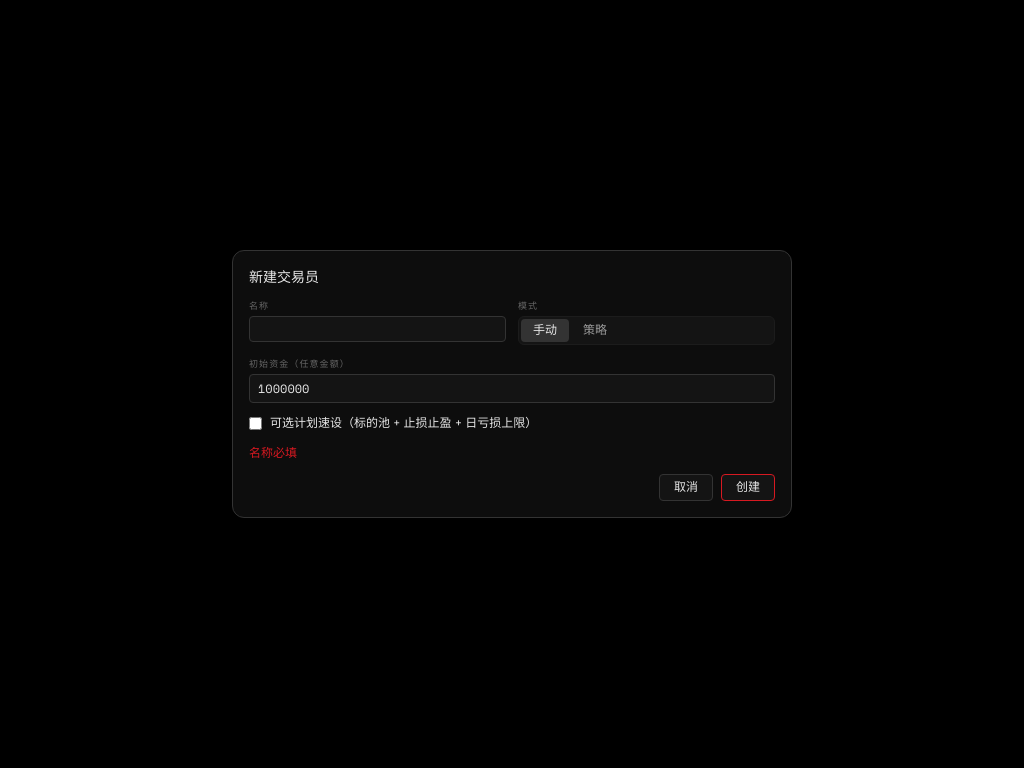
Test: 创建/编辑对话框（01 §4.10〔v2 新增〕） › 策略模式：模板选择驱动参数表单（换模板即换字段）
The image size is (1024, 768).
Type "Gamma" into the field labelled "名称" at [378, 329], box [249,316,506,342]
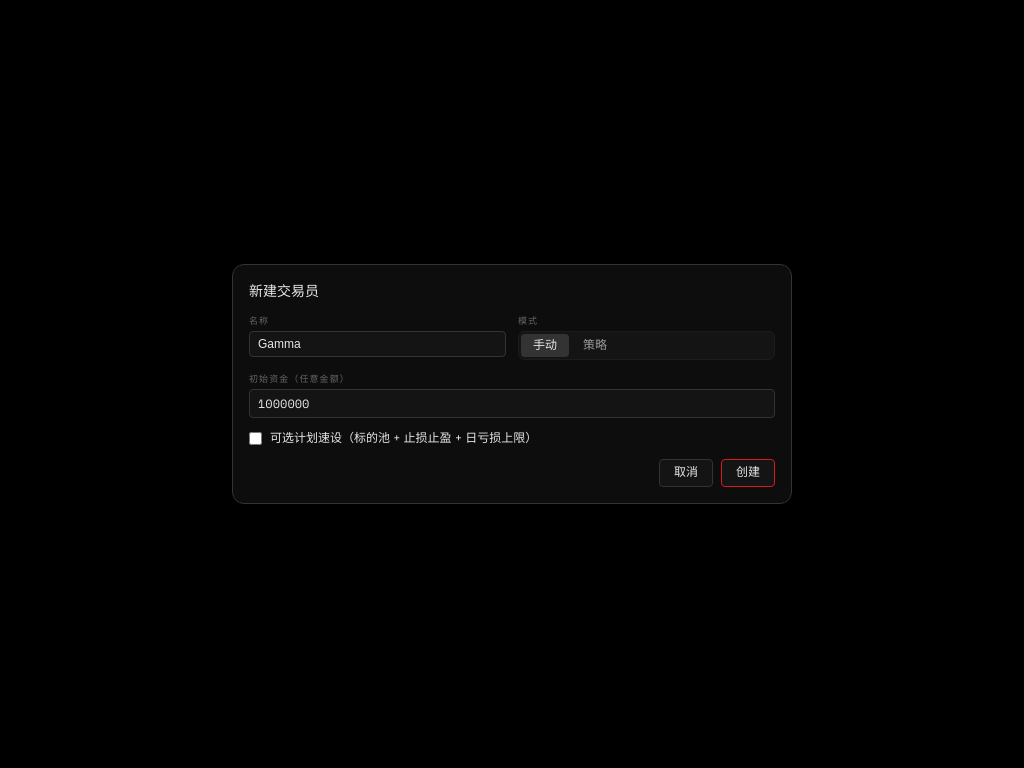
Click the button "策略" at [595, 345], box [571,334,619,357]
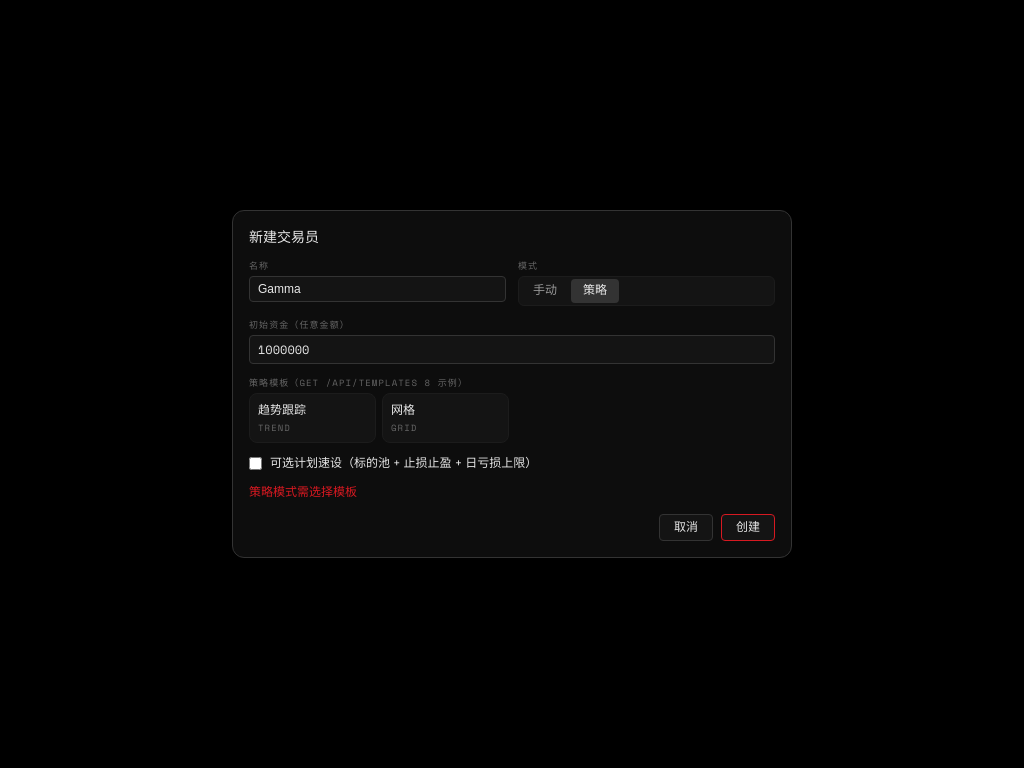
Check: the text "趋势跟踪" is shown
Click the text "趋势跟踪" at [282, 410], box [258,402,306,419]
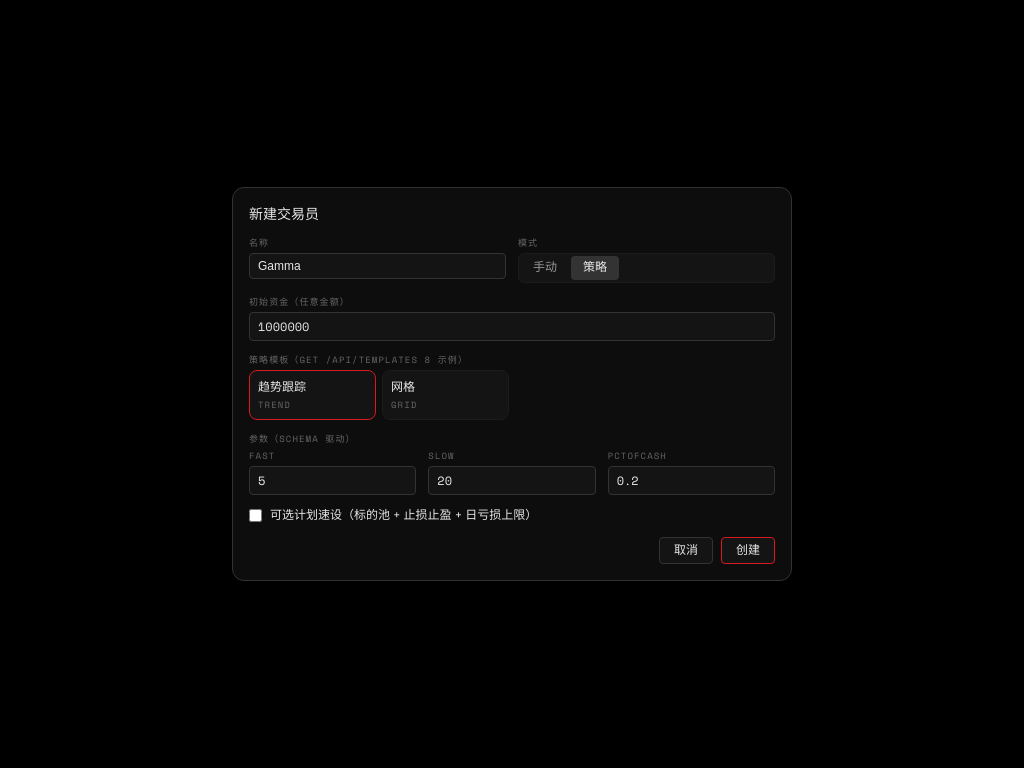
Check: the text "fast" is shown, box [249,449,275,462]
Check: the text "slow" is shown, box [428,449,455,462]
Click the text "网格" at [403, 388], box [391,379,415,396]
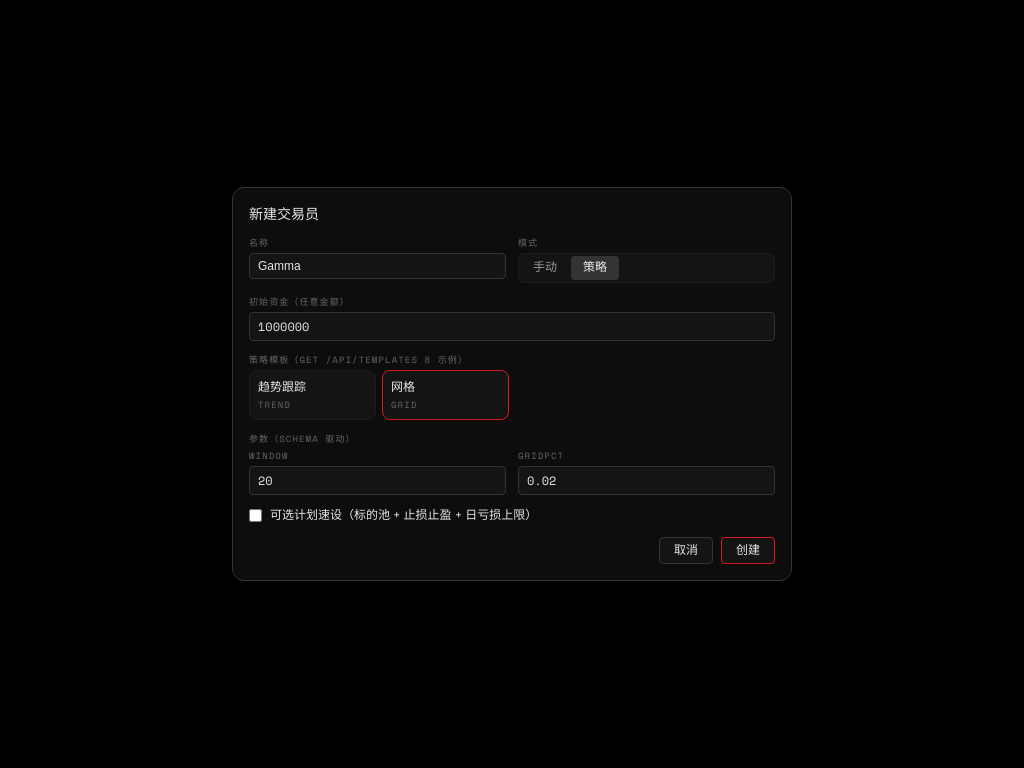
Check: the text "gridPct" is shown, box [518,449,564,462]
Check: the text "fast" is gone
